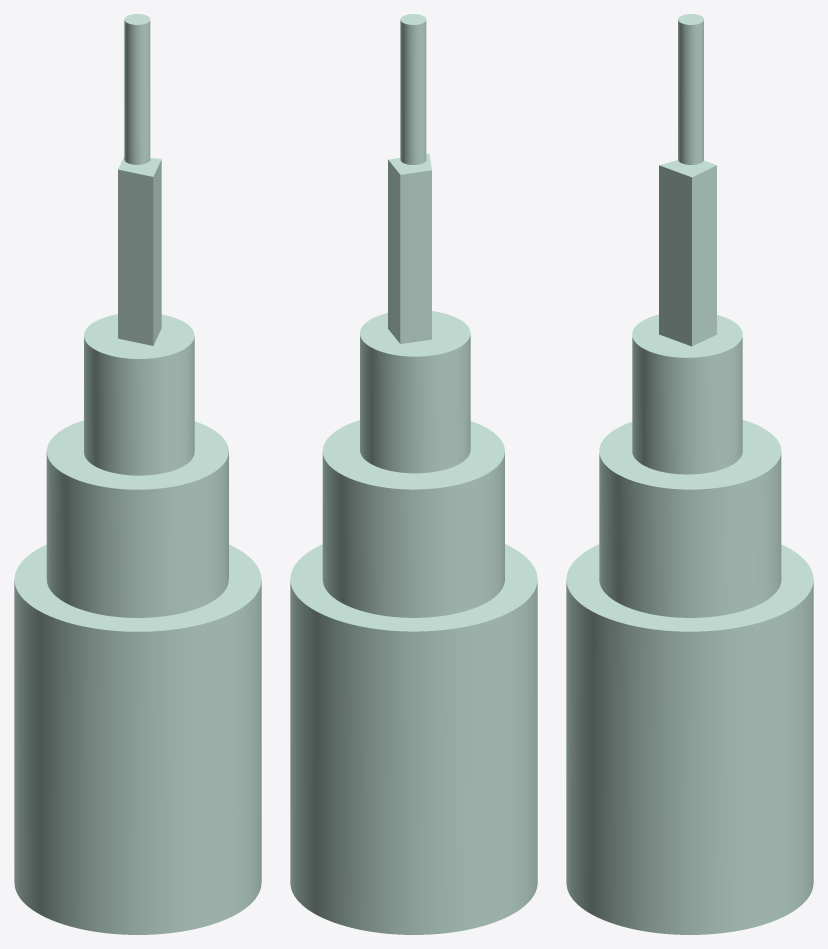
3 renders of one model, left to right at view 1: azimuth 30°, elevation 25°; view 2: azimuth 150°, elevation 25°; view 3: azimuth 270°, elevation 25°, orthographic.
Parts seen in each view (by area): view 1: Renderer Node; view 2: Renderer Node; view 3: Renderer Node.
Boxes of the visible parts, <box> form: Renderer Node: <box>14,14,261,934</box>; Renderer Node: <box>290,14,537,934</box>; Renderer Node: <box>566,14,813,934</box>.
Bounding box in the file's own units: 0.2999 × 1.16 × 0.3.
